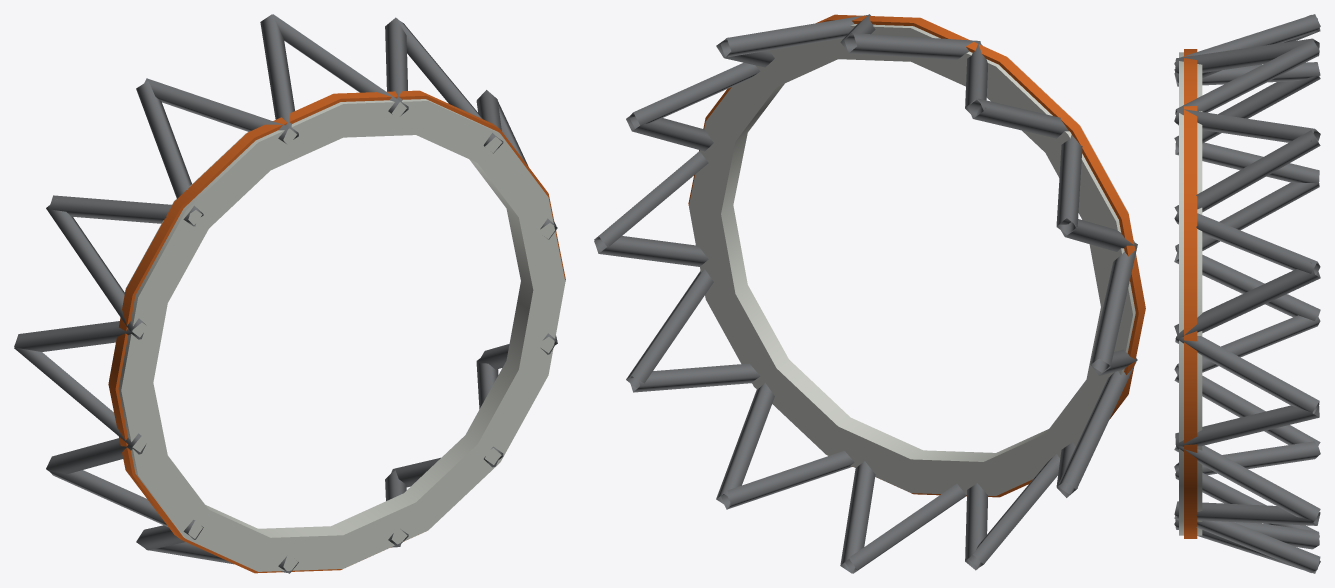
File: u70_interstage.obj
The picture shows the model from 3 angles, left to right: view 1: azimuth 30°, elevation 25°; view 2: azimuth 150°, elevation 25°; view 3: azimuth 270°, elevation 25°; orthographic projection. The views are drawn at different scales.
Visible parts, largest first — view 1: u70_interstage; view 2: u70_interstage; view 3: u70_interstage.
Boxes of the visible parts, bbox=[...] form: u70_interstage: bbox=[14, 14, 565, 573]; u70_interstage: bbox=[594, 14, 1145, 573]; u70_interstage: bbox=[1174, 14, 1320, 573].
Size of the model in its own units: 3.37 by 3.37 by 0.8783.
